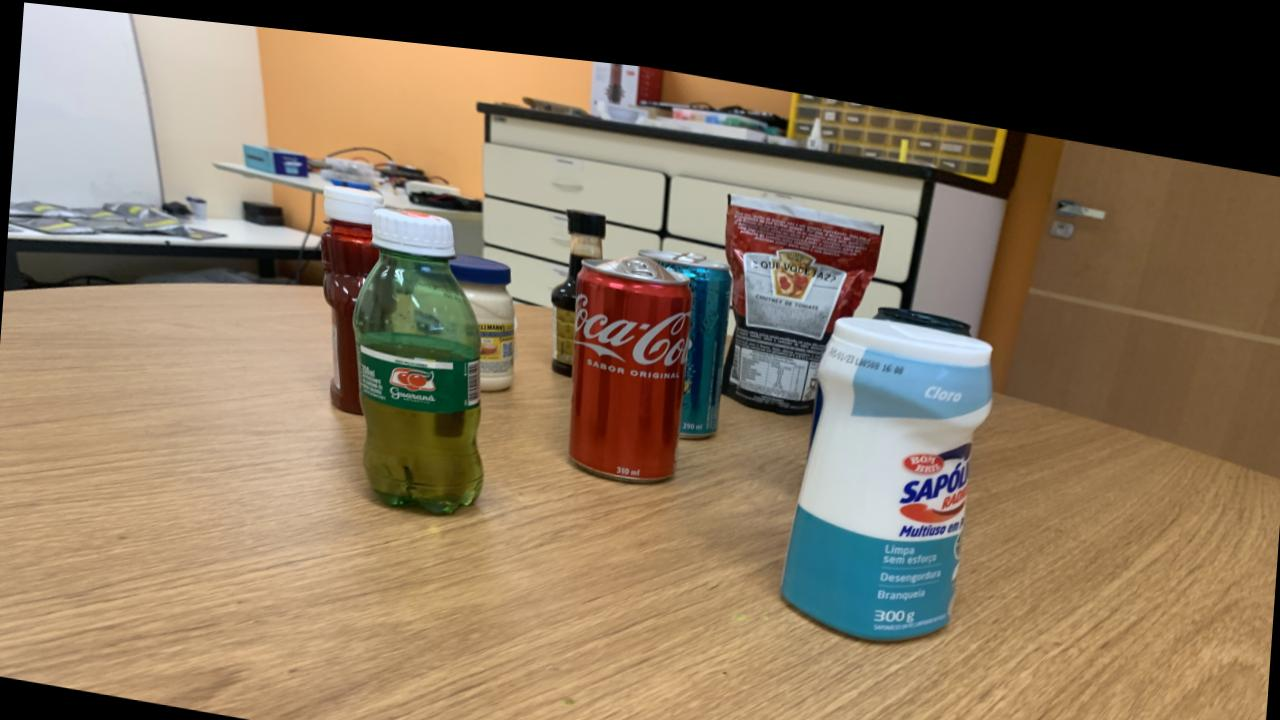Cleaner-Cleanup_Items: (780, 298, 992, 621)
Coke-Drinks: (568, 241, 692, 468)
English_Sauce-Pantry_Items: (550, 196, 606, 364)
Guarana-Drinks: (352, 201, 483, 504)
Ketchup-Pantry_Items: (319, 177, 383, 405), (320, 177, 383, 405)
Mayonnaise-Pantry_Items: (449, 244, 516, 380)
Tea-Drinks: (639, 235, 731, 423)
Tomato_Sauce-Pantry_Items: (723, 177, 881, 398)
